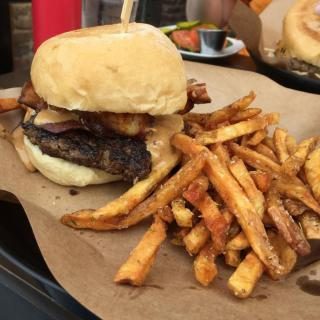French fries: (70, 82, 320, 291)
Hamburger: (18, 22, 210, 188)
